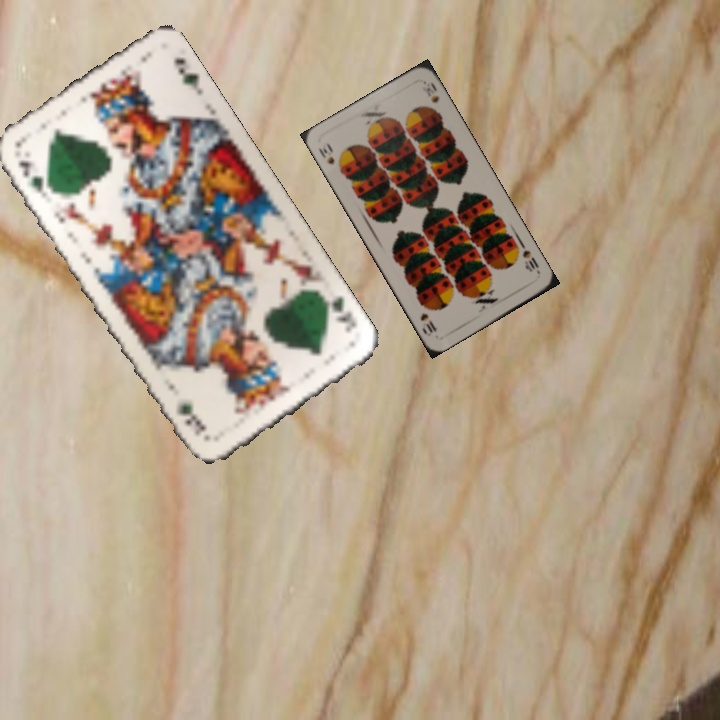GK: (319, 291, 360, 336), (14, 156, 54, 201)
S10: (314, 138, 345, 174), (518, 246, 543, 277)
